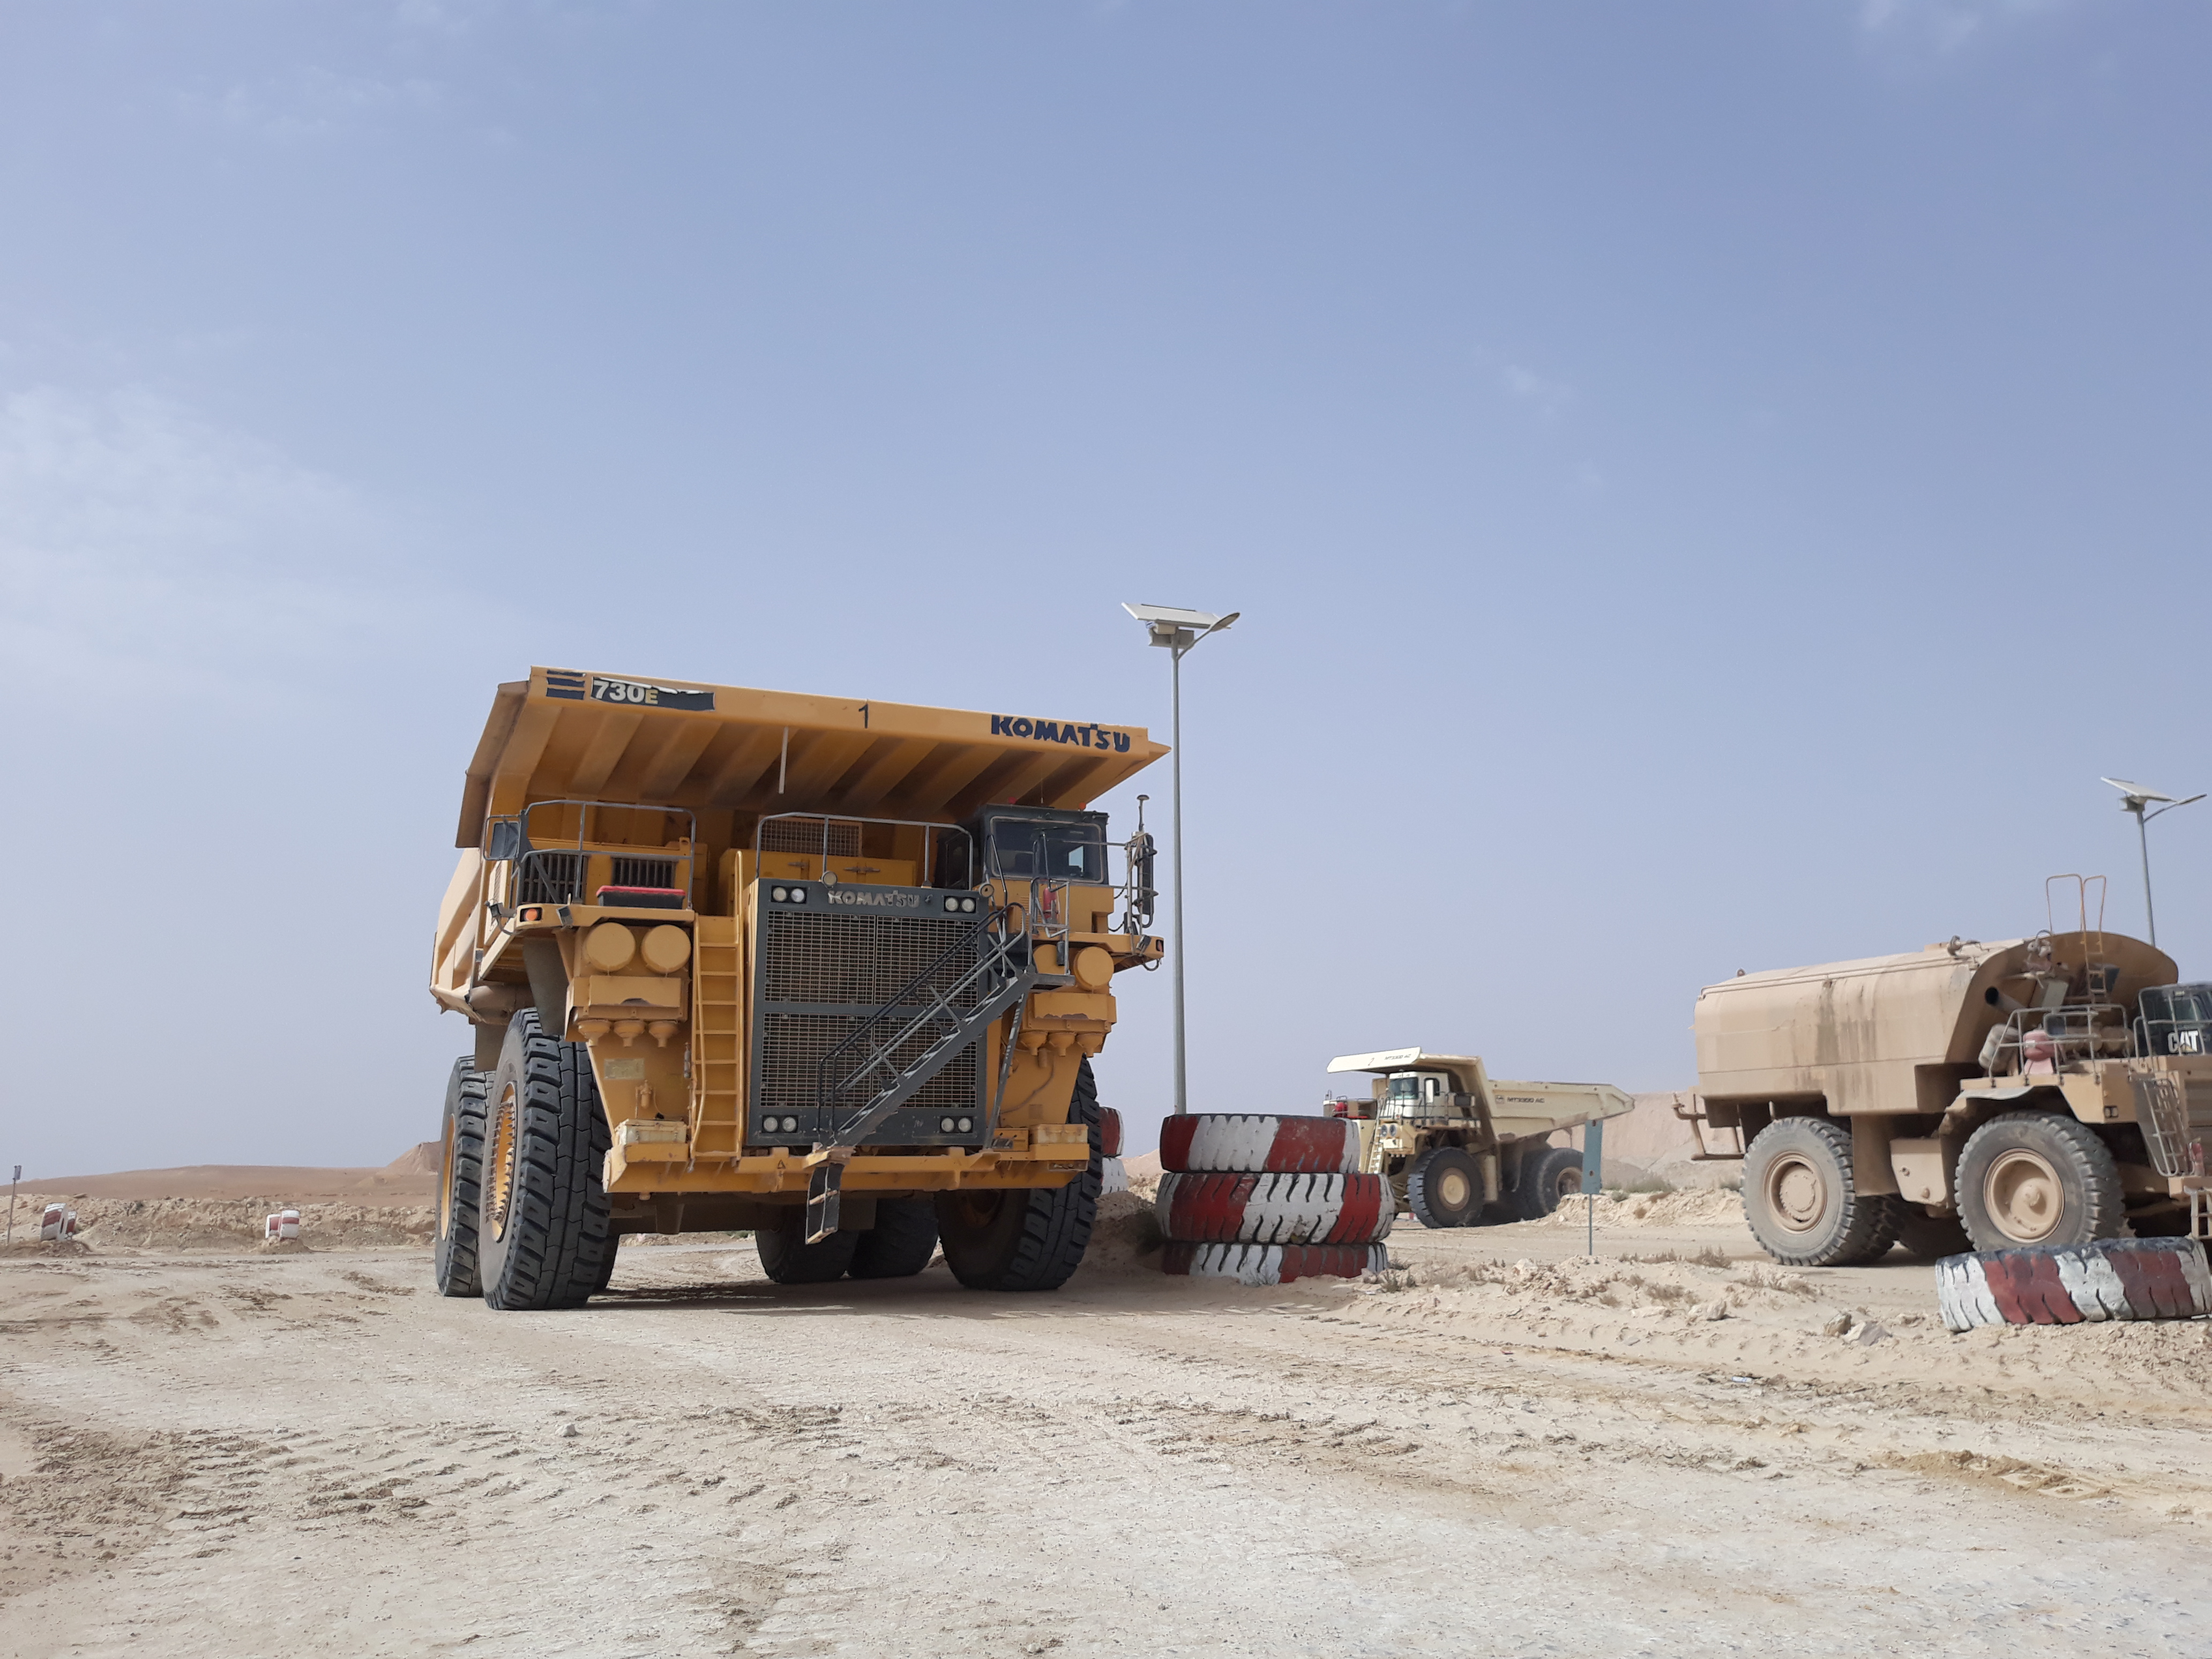camion: (415, 584, 1247, 1415), (1325, 978, 1641, 1295)
